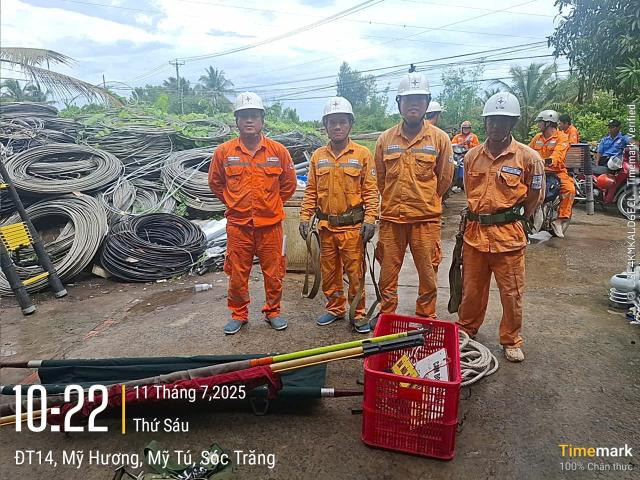gloves: (291, 209, 312, 244), (361, 219, 381, 252)
harness: (459, 203, 533, 234), (306, 202, 371, 228)
helmet: (389, 63, 440, 107), (481, 83, 529, 124), (320, 95, 356, 126), (234, 88, 267, 120), (535, 104, 569, 131), (419, 101, 452, 114), (454, 121, 474, 129)
shoes: (496, 325, 538, 375), (216, 309, 251, 345), (257, 309, 294, 339), (309, 301, 348, 327), (348, 308, 372, 345), (371, 304, 395, 329), (552, 210, 569, 244)
